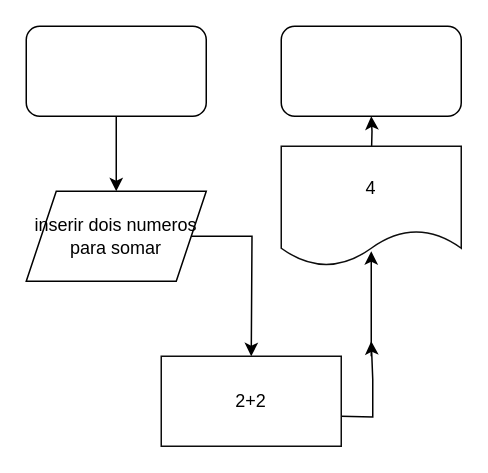
This 488x473 diagram has some shape labels left out. The shapes that lost their labels are listed below. From the top down, each one's centre as x and y in pixels, then its label:
point (115, 70): INICIO
point (370, 70): fim
